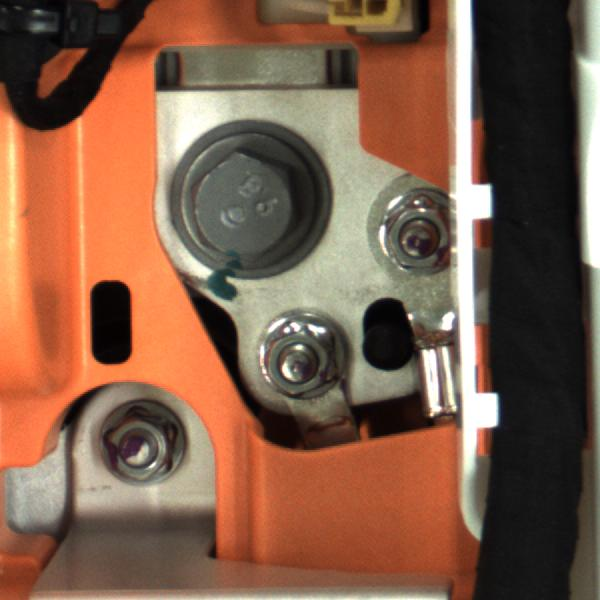nut_b: (170, 129, 349, 274)
screw_s: (252, 295, 348, 404), (98, 394, 189, 491), (382, 184, 461, 281)
